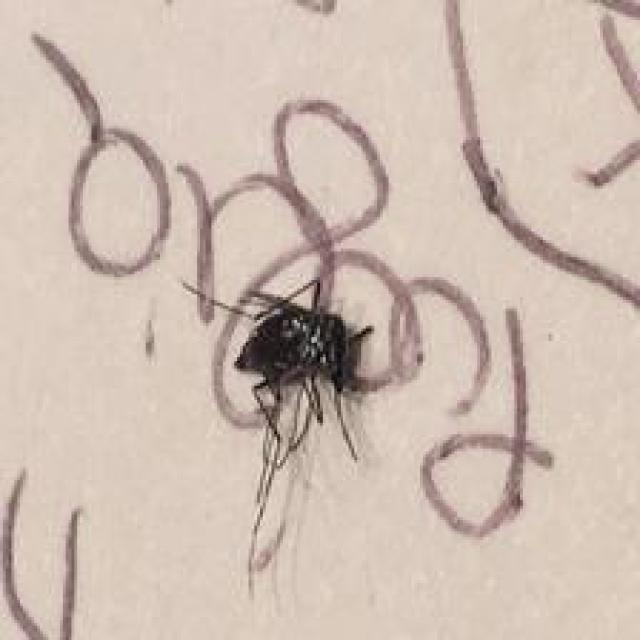Aedes albopictus: (29, 29, 552, 600)
